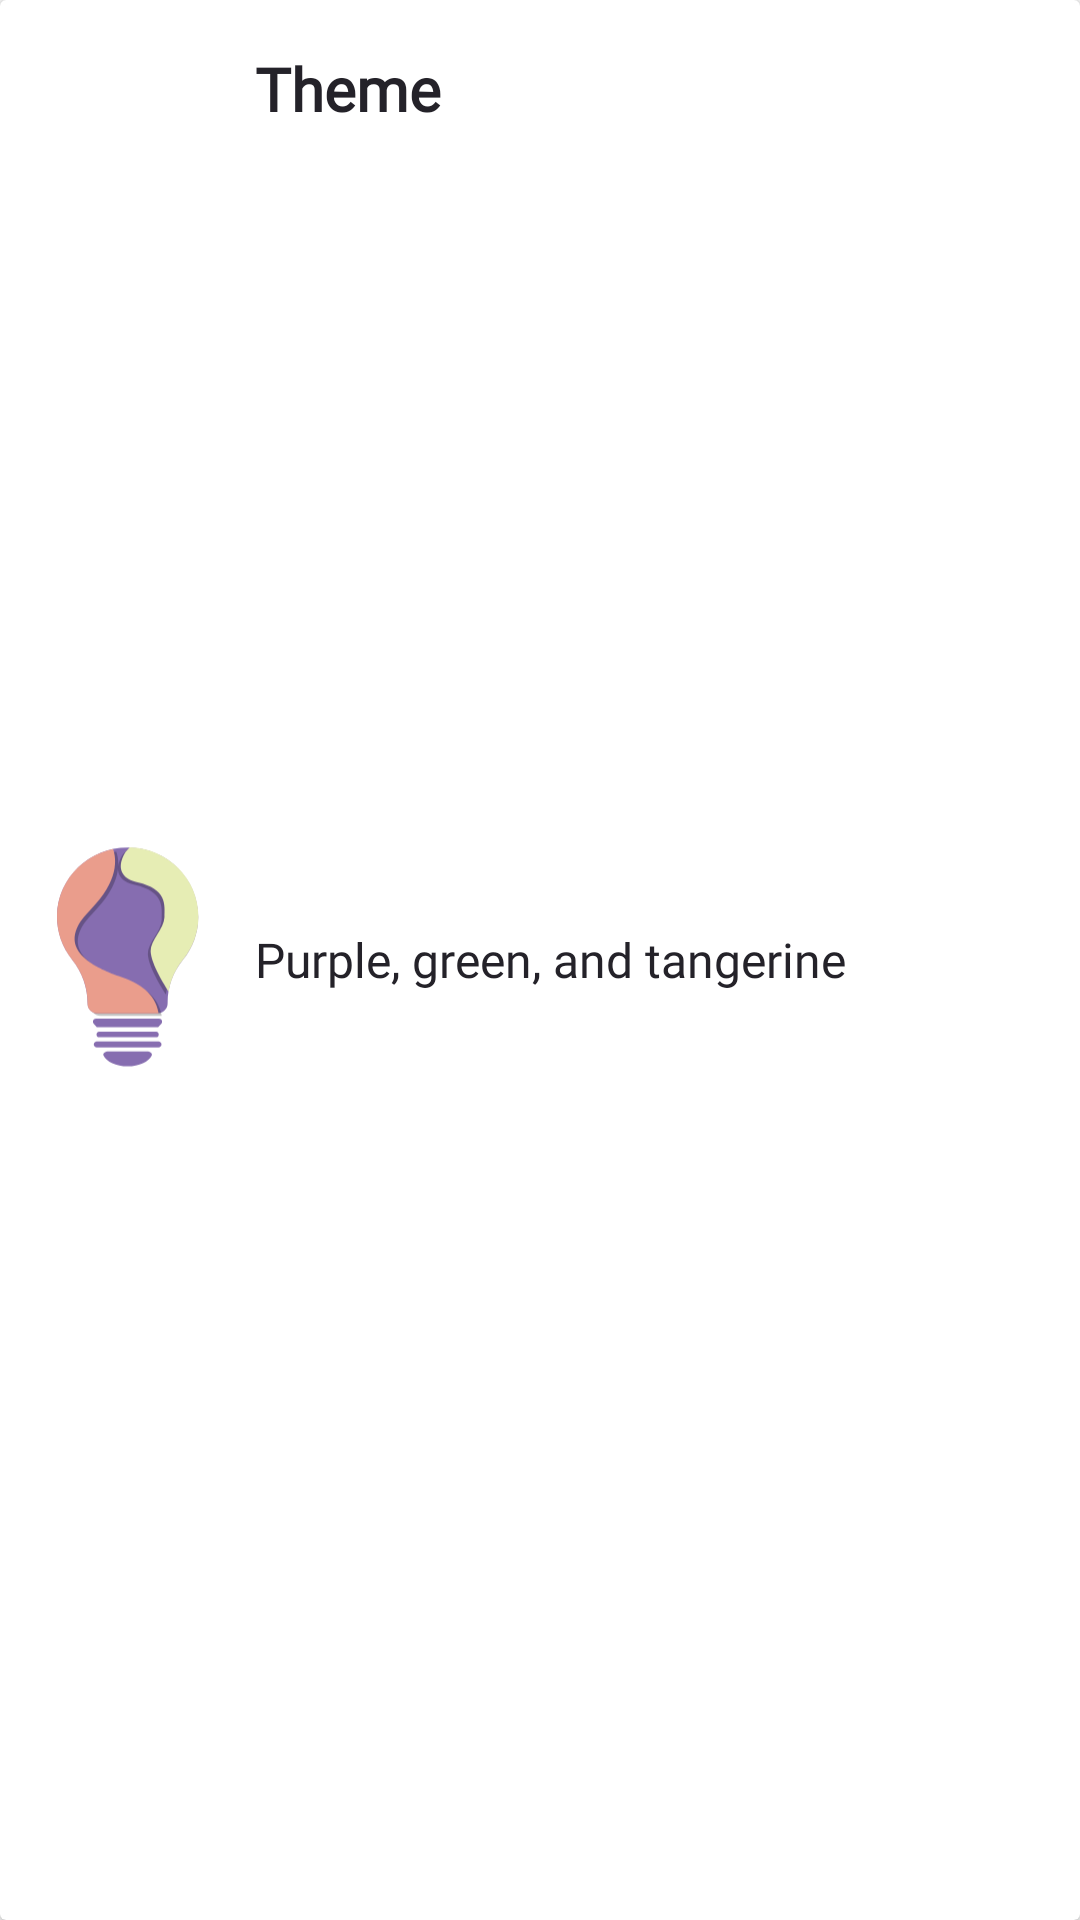

Screen size 1080px×1920px. Icon name, then its box in pixels as (x1, y1, x2, y2):
craftyly bulb: (57, 847, 199, 1067)
